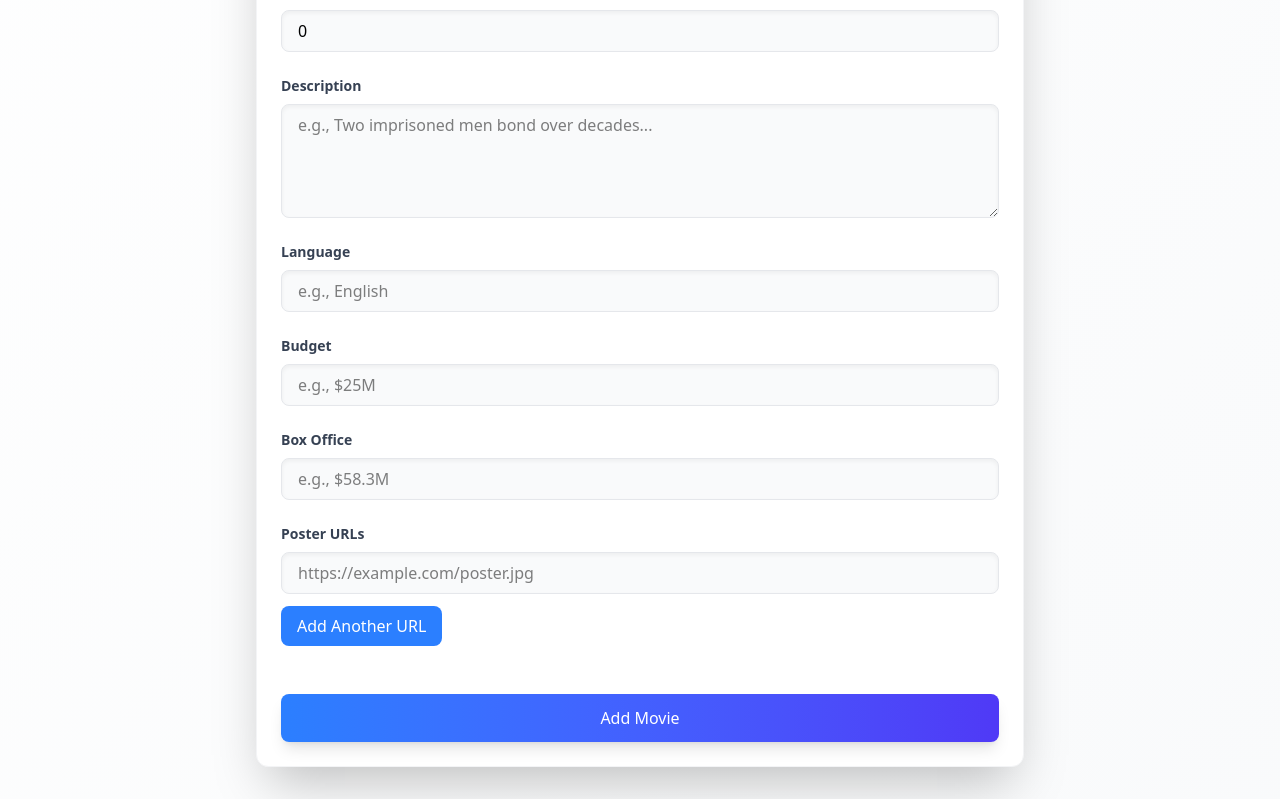
Test case: AdminPanel Component › allows adding another poster URL field
The image size is (1280, 799).
(page scrolled)
Click the button "Add Another URL" at (362, 626), box [281,606,442,646]
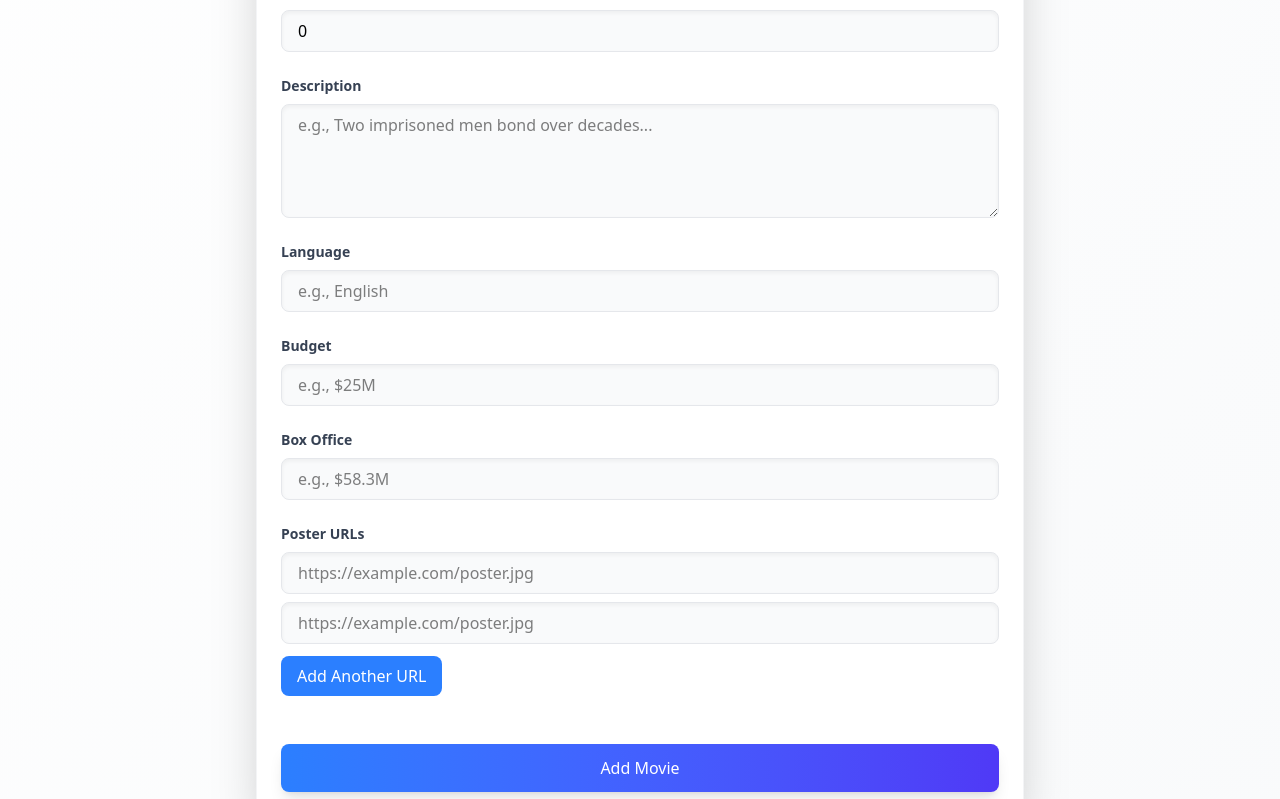
Check: the number of fields with placeholder "https://example.com/poster.jpg" is 2, box [281,552,999,594]; [281,602,999,644]
